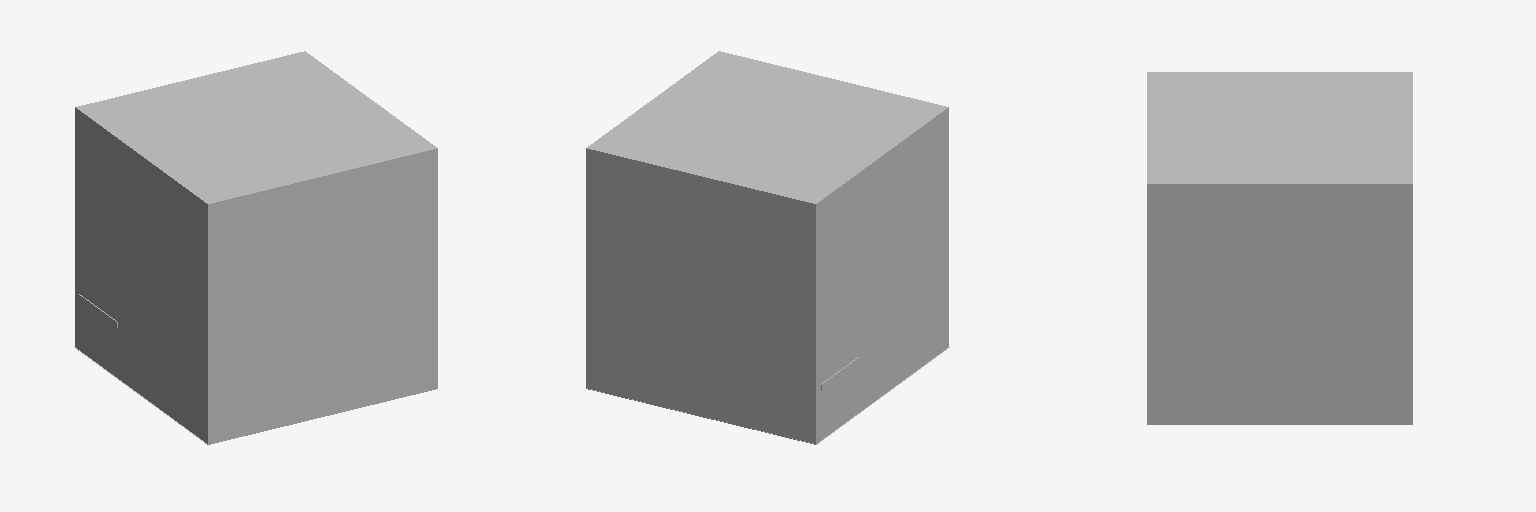
The model's file is Throne_map.001.obj.
3 views of the same model, side by side, from view 1: azimuth 30°, elevation 25°; view 2: azimuth 150°, elevation 25°; view 3: azimuth 270°, elevation 25° (orthographic).
Parts seen in each view (by area): view 1: Cube.010, Cube.009, Cube.003_Cube; view 2: Cube.008, Cube.009, Cube.003_Cube; view 3: Cube.007_Cube.004, Cube.003_Cube.
Part boxes in pixels (x1,y1,x2,y2): Cube.010: (208, 148, 437, 444); Cube.009: (75, 107, 207, 444); Cube.003_Cube: (76, 51, 436, 203); Cube.008: (586, 148, 815, 444); Cube.009: (816, 107, 948, 444); Cube.003_Cube: (587, 51, 947, 203); Cube.007_Cube.004: (1147, 184, 1412, 424); Cube.003_Cube: (1147, 72, 1412, 183).
Size of the model in its own units: 17.29 by 18.32 by 17.23.